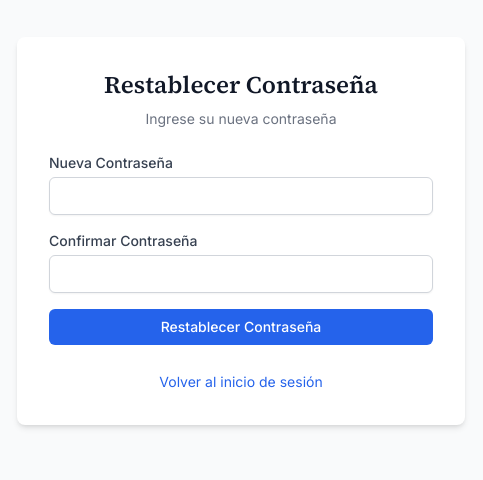
Test: ResetPasswordPage › shows validation error when passwords do not match
This screenshot has width=483, height=480.
Type "Password1!" into the password field labelled "Nueva Contraseña" at (241, 196), box [49,177,433,215]
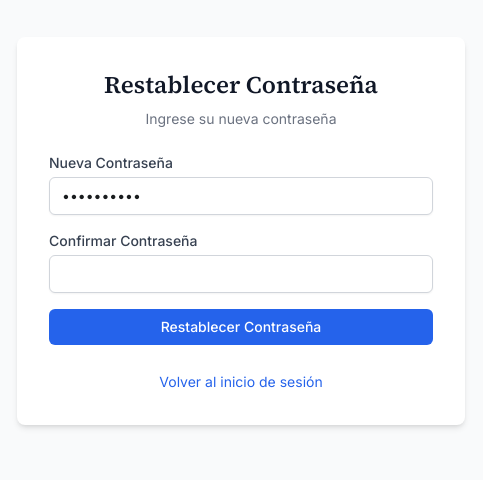
Type "DifferentPassword1!" into the password field labelled "Confirmar Contraseña" at (241, 274), box [49,255,433,293]
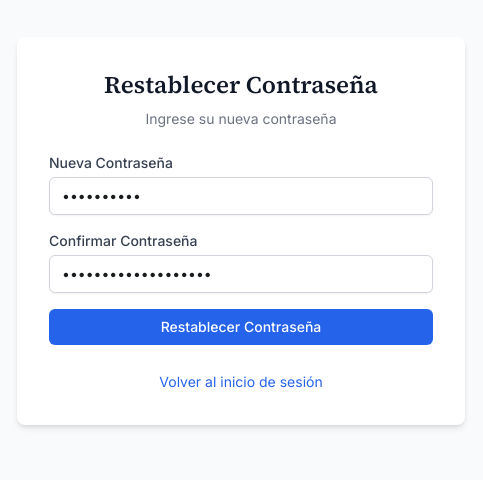
Click the button "Restablecer Contraseña" at (241, 327), box [49,309,433,345]
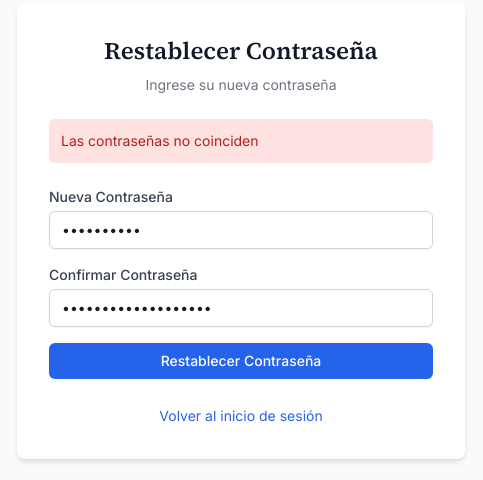
Expected: the text "Las contraseñas no coinciden" is shown, [49,119,433,163]
